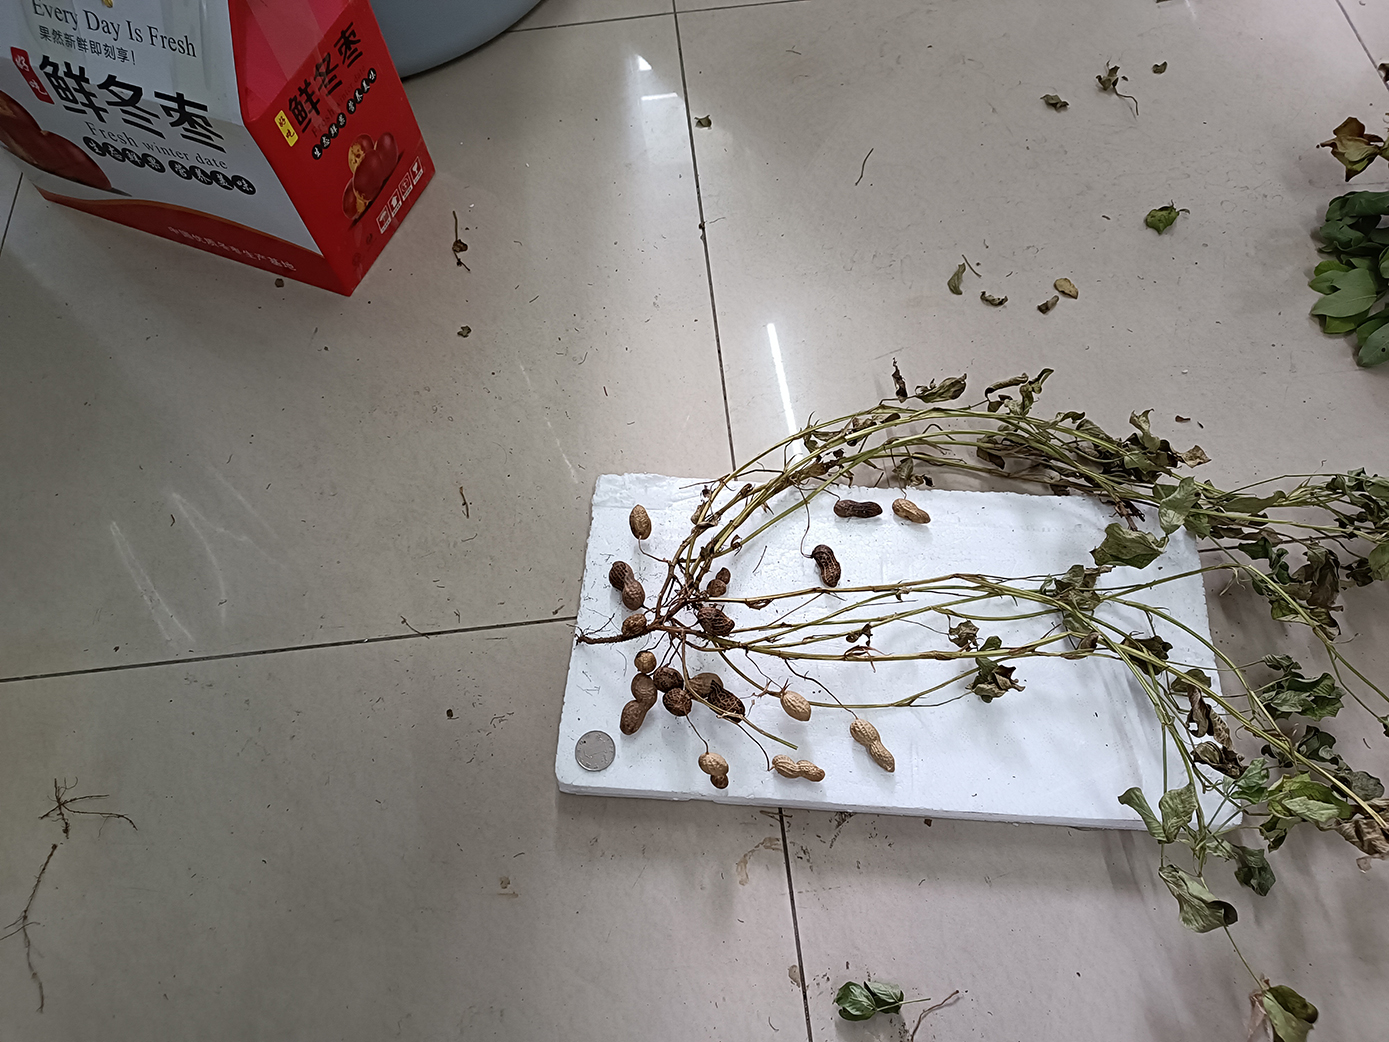h: (850, 719, 896, 773), (620, 673, 658, 736), (771, 754, 826, 783), (698, 752, 729, 789), (891, 498, 931, 524), (780, 690, 812, 722), (629, 503, 652, 541), (634, 650, 657, 674)
l: (688, 672, 745, 723), (607, 560, 646, 611), (653, 665, 692, 716), (811, 544, 842, 588), (696, 606, 736, 636), (833, 499, 883, 519), (706, 566, 731, 597), (621, 613, 647, 636)
